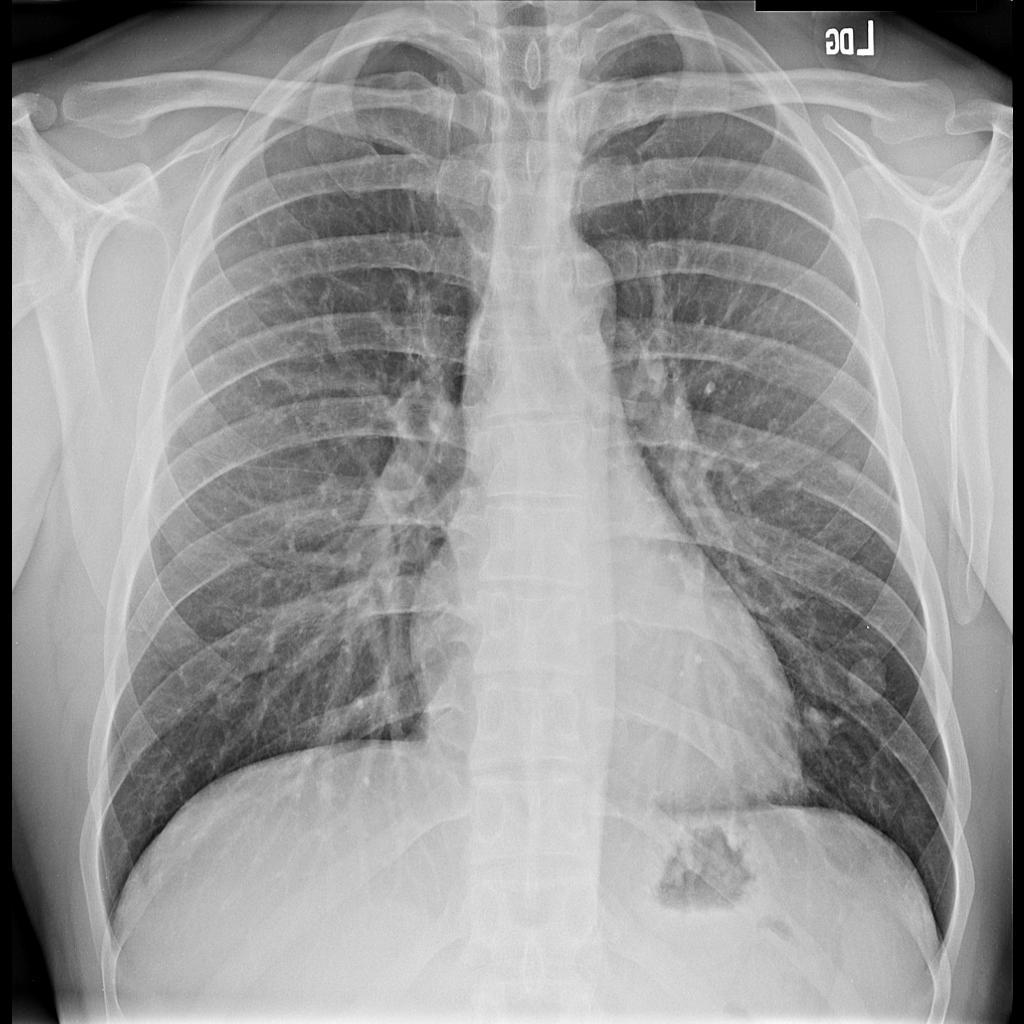Nodule: (373, 454, 434, 519), (779, 697, 838, 760), (847, 655, 893, 708)
